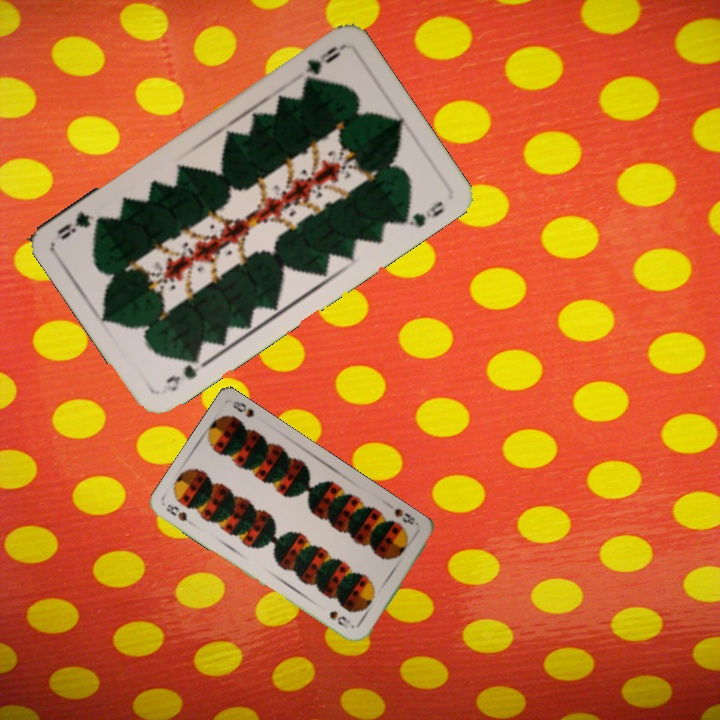G9: (157, 351, 210, 397), (299, 41, 345, 87)
S8: (162, 500, 190, 524), (390, 504, 418, 527)
